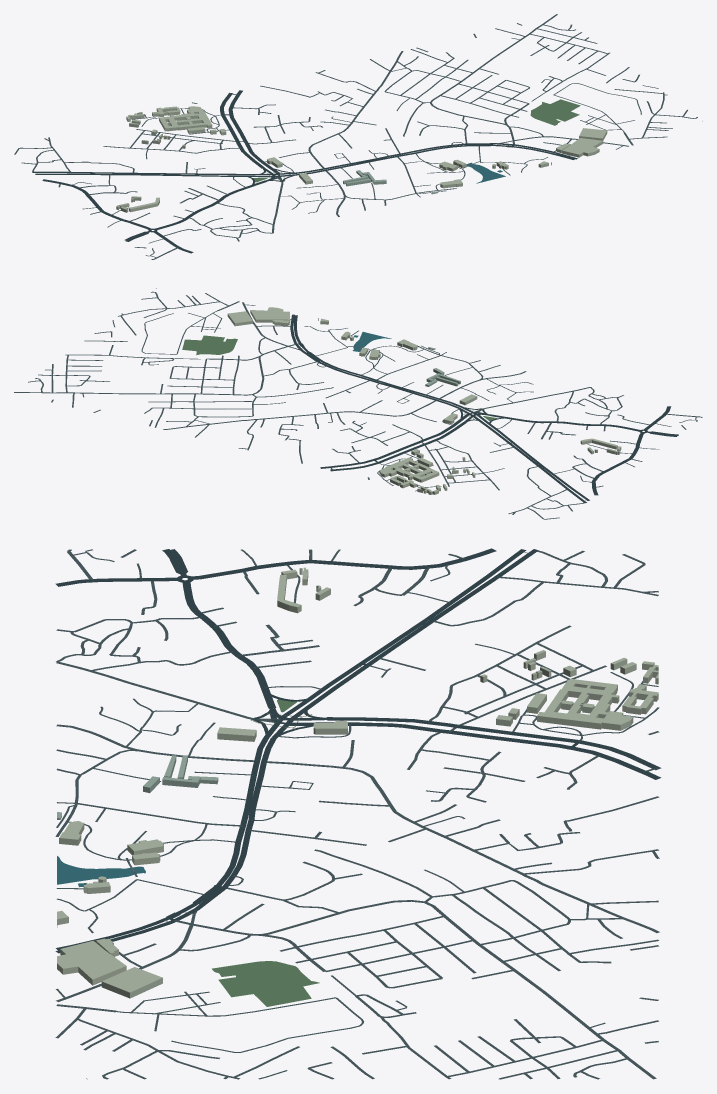
3 views of the same model, one above another, from view 1: azimuth 30°, elevation 25°; view 2: azimuth 150°, elevation 25°; view 3: azimuth 270°, elevation 25° (orthographic). The views are drawn at different scales.
Parts seen in each view (by area): view 1: street, major, building, green; view 2: street, major, building, green; view 3: street, major, building, green, water, building-tagged.
Part boxes in pixels (left/top/right/bottom): street: left=14, top=14, right=702, bottom=259; major: left=32, top=90, right=577, bottom=253; building: left=116, top=106, right=607, bottom=212; green: left=253, top=99, right=580, bottom=182; street: left=14, top=288, right=702, bottom=519; major: left=290, top=314, right=678, bottom=503; building: left=227, top=307, right=621, bottom=494; green: left=182, top=335, right=496, bottom=421; street: left=55, top=549, right=659, bottom=1079; major: left=55, top=548, right=661, bottom=953; building: left=57, top=567, right=658, bottom=998; green: left=212, top=699, right=319, bottom=1006; water: left=57, top=856, right=145, bottom=887; building-tagged: left=57, top=755, right=218, bottom=819.
Size of the model in its own units: 2007 by 10.7 by 968.
